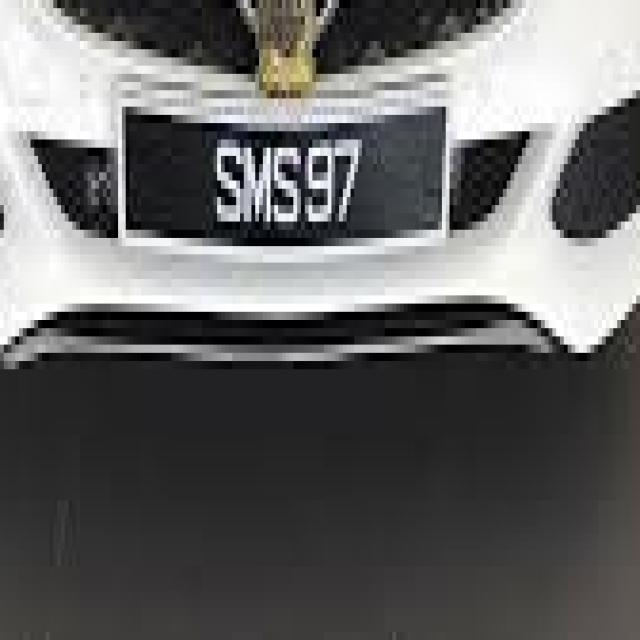car-plate: (105, 86, 458, 255)
